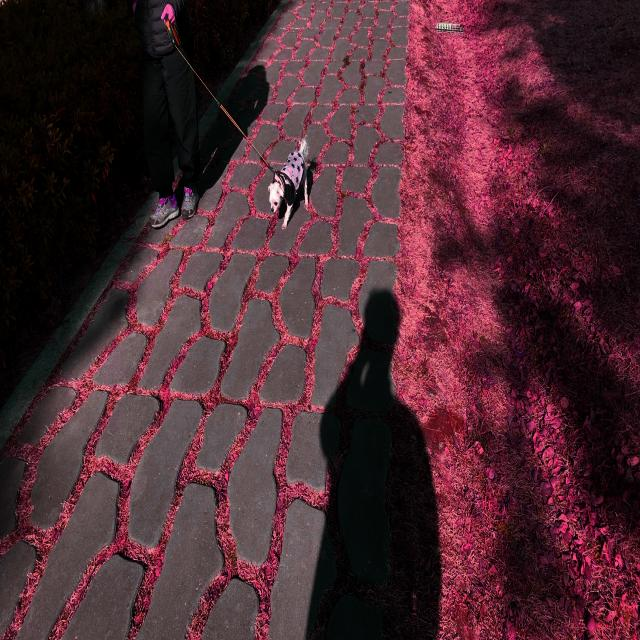Leashed_Dog: (169, 23, 309, 230)
